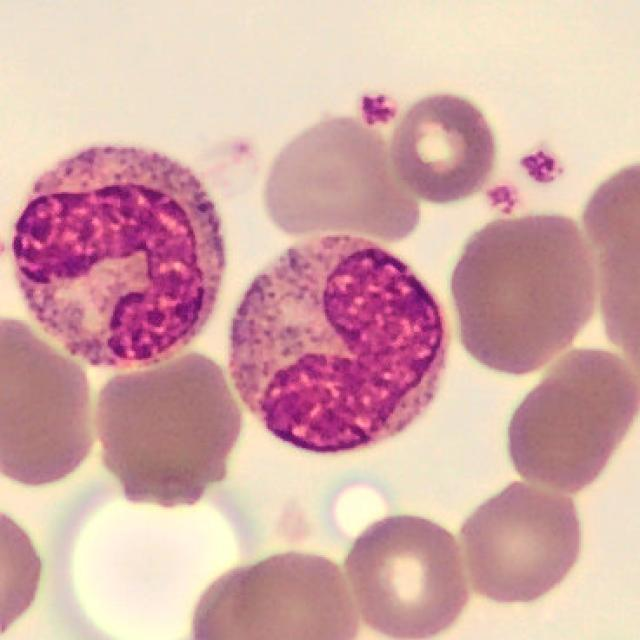Bastonete: (228, 235, 447, 455), (12, 145, 224, 370)
